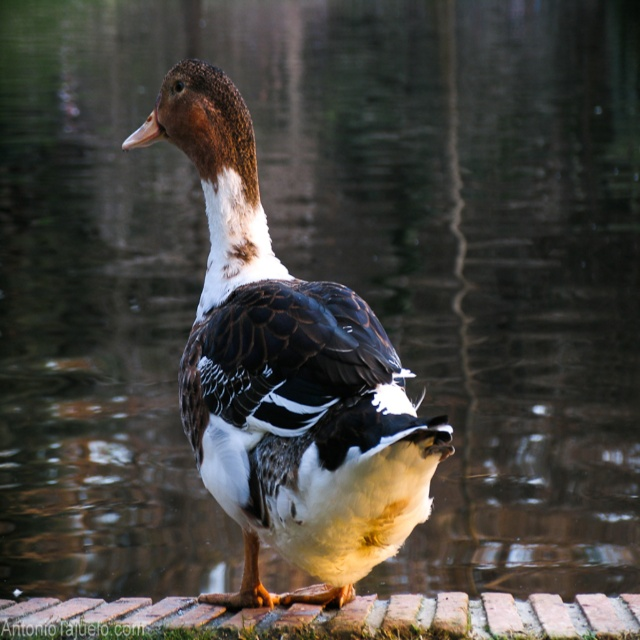Duck: (122, 56, 451, 633)
